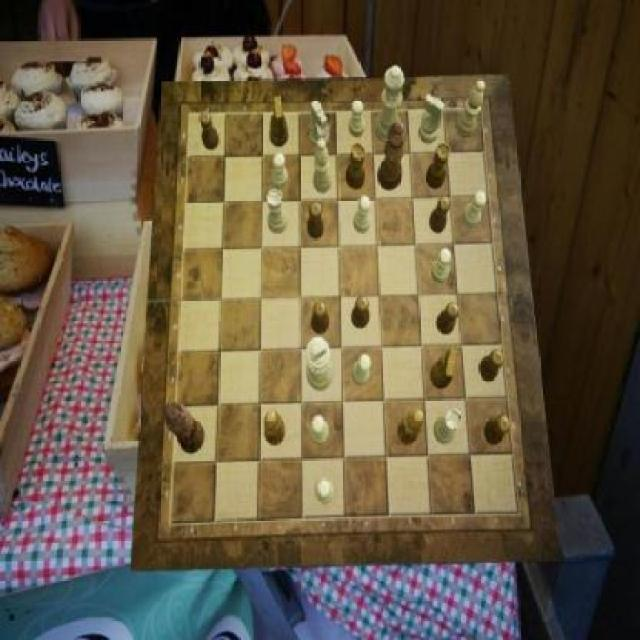bishop: (397, 410, 424, 446), (265, 410, 287, 446)
black-bishop: (164, 401, 204, 454)
black-king: (430, 348, 458, 389), (270, 97, 288, 148)
black-knight: (480, 349, 506, 383), (484, 416, 512, 446), (436, 302, 460, 336), (200, 111, 220, 151), (429, 195, 450, 233), (311, 302, 330, 336), (352, 296, 370, 330), (308, 202, 324, 239)
black-pawn: (378, 121, 408, 190)
black-queen: (426, 143, 451, 189), (346, 143, 366, 189)
black-rook: (457, 80, 486, 138), (313, 139, 332, 193)
white-bishop: (306, 335, 333, 390)
white-king: (418, 94, 446, 144), (309, 100, 329, 149)
white-knight: (463, 191, 486, 228), (432, 249, 452, 284), (270, 152, 288, 190), (354, 195, 371, 233), (351, 354, 371, 386), (350, 100, 366, 138), (310, 416, 328, 446), (316, 478, 334, 504)
white-pawn: (376, 66, 406, 145)
white-queen: (266, 189, 289, 235), (434, 410, 461, 446)
